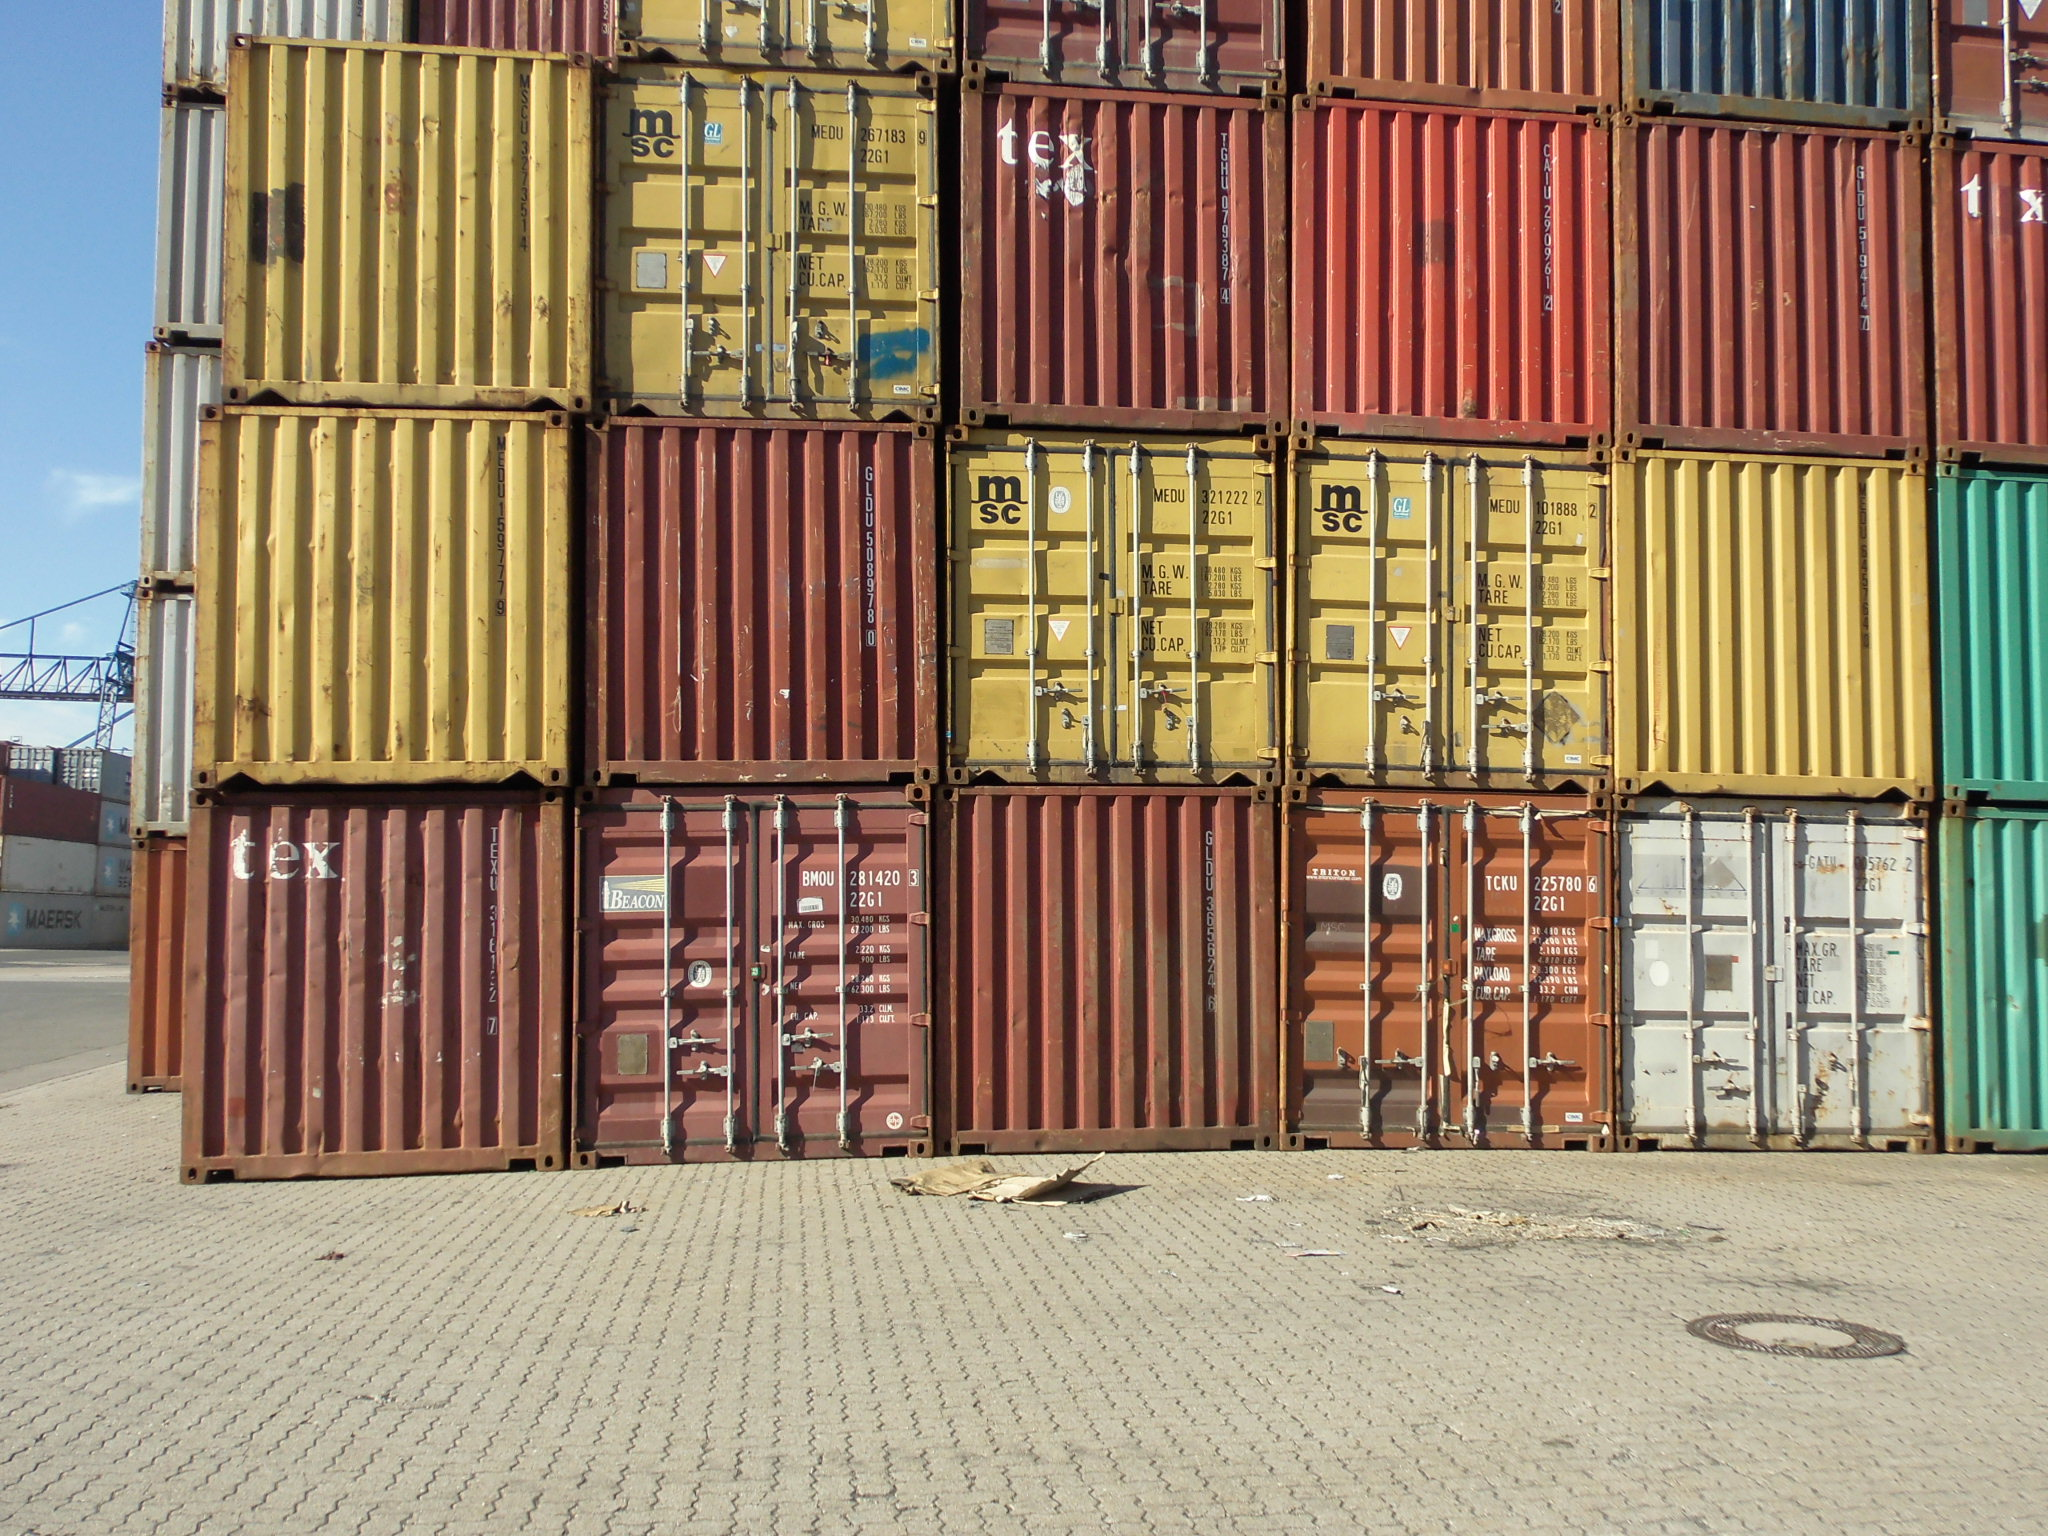container_door: (947, 432, 1284, 795), (1293, 440, 1630, 803), (581, 795, 918, 1158), (1279, 792, 1616, 1155), (1625, 791, 1963, 1154), (613, 56, 948, 419)
container_no_door: (224, 34, 593, 405), (211, 411, 568, 791), (211, 795, 556, 1171), (935, 77, 1288, 436), (584, 416, 935, 774), (951, 783, 1263, 1133), (1617, 110, 1929, 458), (1630, 437, 1942, 786), (1309, 94, 1619, 442)
